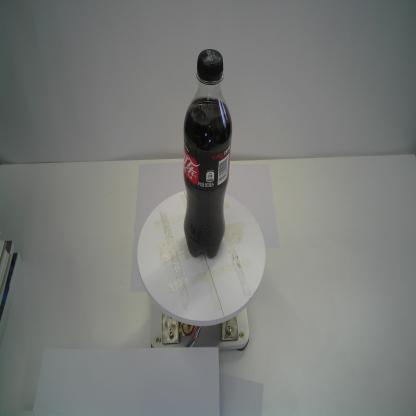Drink: (179, 45, 234, 260)
